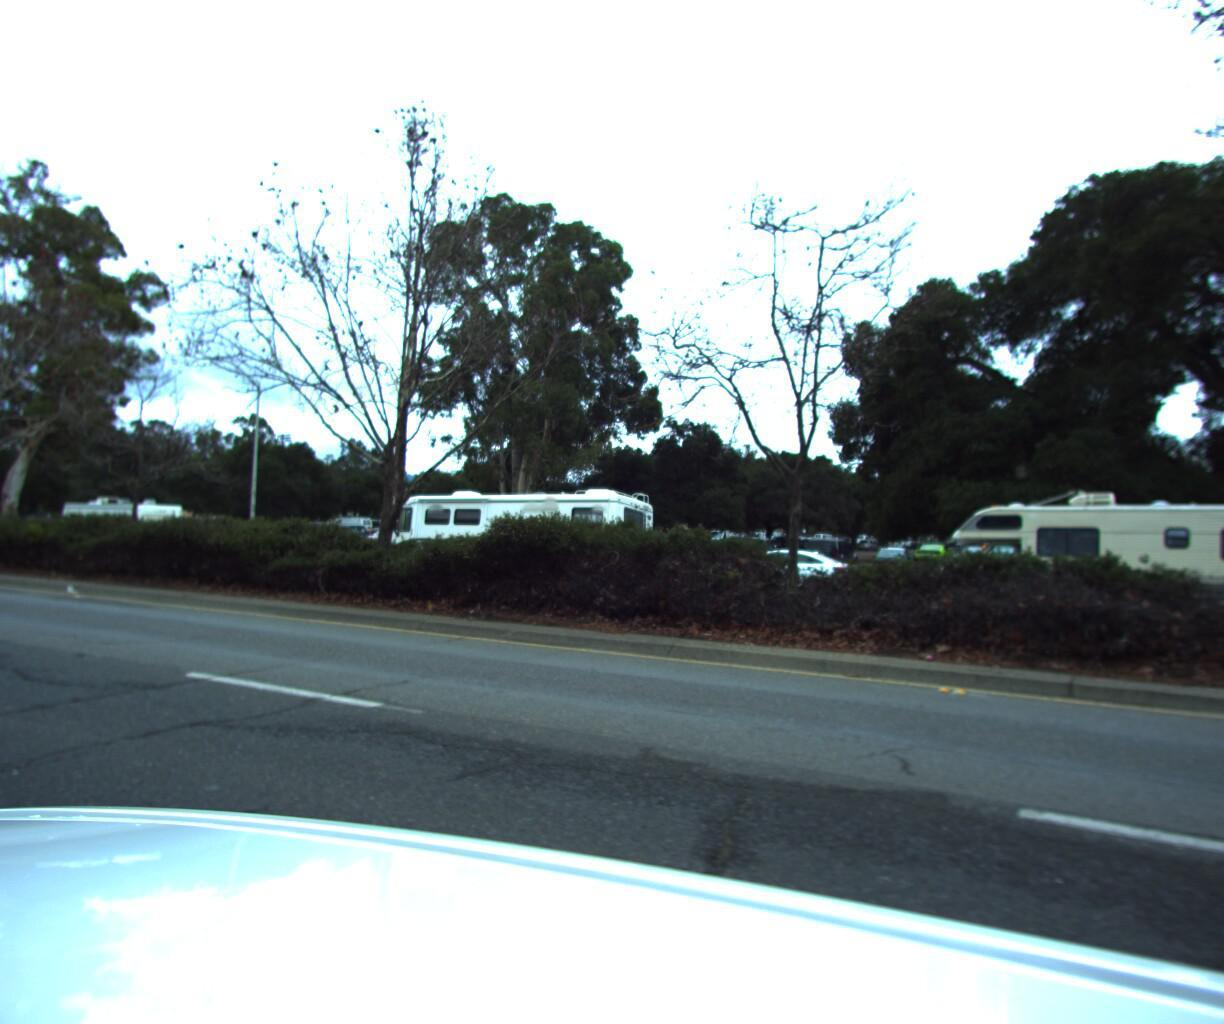car: (702, 538, 865, 598)
other_vehicle: (925, 479, 1224, 623), (366, 477, 664, 590), (43, 490, 192, 552)
